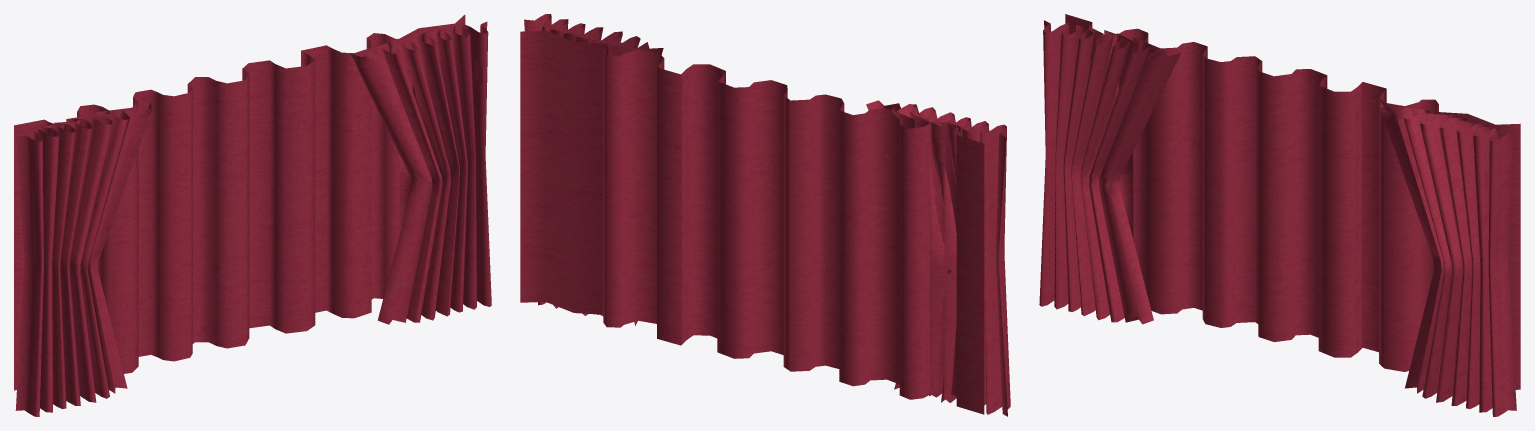
The model's file is rideau.fbx.
3 renders of one model, left to right at view 1: azimuth 30°, elevation 25°; view 2: azimuth 150°, elevation 25°; view 3: azimuth 330°, elevation 25°, orthographic. The views are drawn at different scales.
Visible parts, largest first — view 1: nurbsToPoly1, nurbsToPoly2; view 2: nurbsToPoly1, nurbsToPoly2; view 3: nurbsToPoly1, nurbsToPoly2.
Boxes of the visible parts, x1,y1,x2,y2 form: nurbsToPoly1: (14, 14, 465, 390); nurbsToPoly2: (15, 21, 491, 416); nurbsToPoly1: (520, 30, 984, 414); nurbsToPoly2: (524, 14, 1010, 416); nurbsToPoly1: (1065, 14, 1520, 389); nurbsToPoly2: (1039, 20, 1516, 416).
Size of the model in its own units: 46.69 by 25.8 by 5.23.
